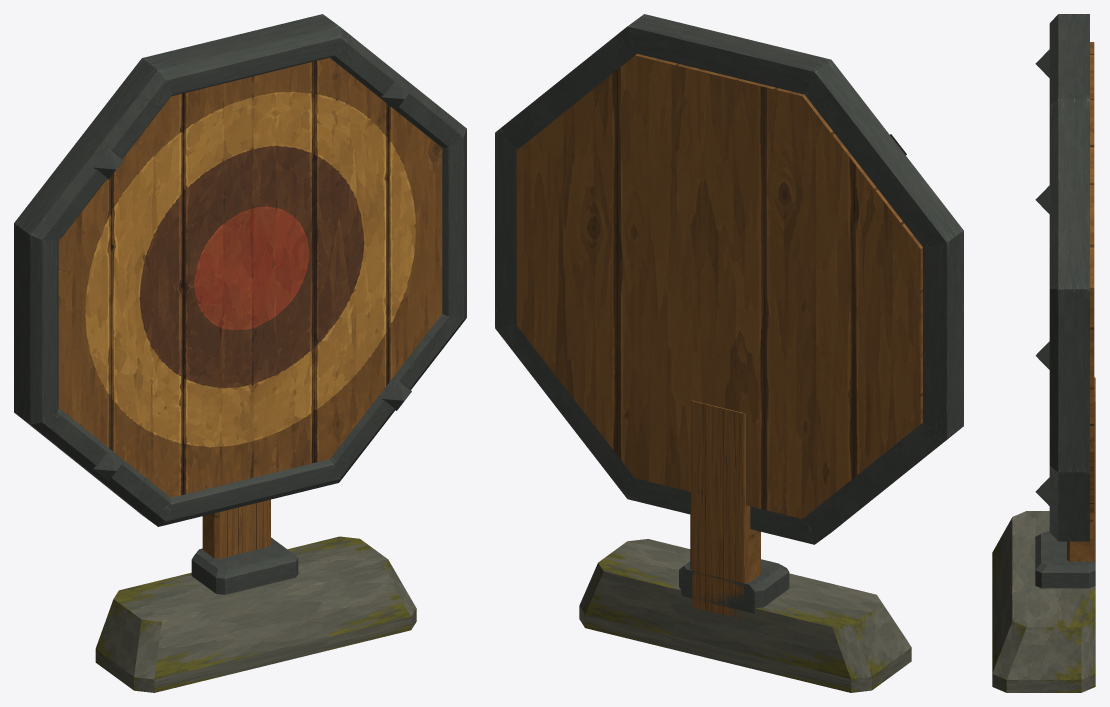
Rendered from Bow_Target.fbx.
3 views of the same model, side by side, from view 1: azimuth 30°, elevation 25°; view 2: azimuth 150°, elevation 25°; view 3: azimuth 270°, elevation 25° (orthographic). The views are drawn at different scales.
Parts seen in each view (by area): view 1: SM_Archery_Target; view 2: SM_Archery_Target; view 3: SM_Archery_Target.
Boxes of the visible parts, x1,y1,x2,y2 form: SM_Archery_Target: (14, 14, 466, 692); SM_Archery_Target: (495, 14, 963, 692); SM_Archery_Target: (992, 14, 1095, 692).
Bounding box in the file's own units: 170 × 219 × 36.
Materials: 1 (1 with a texture image).
